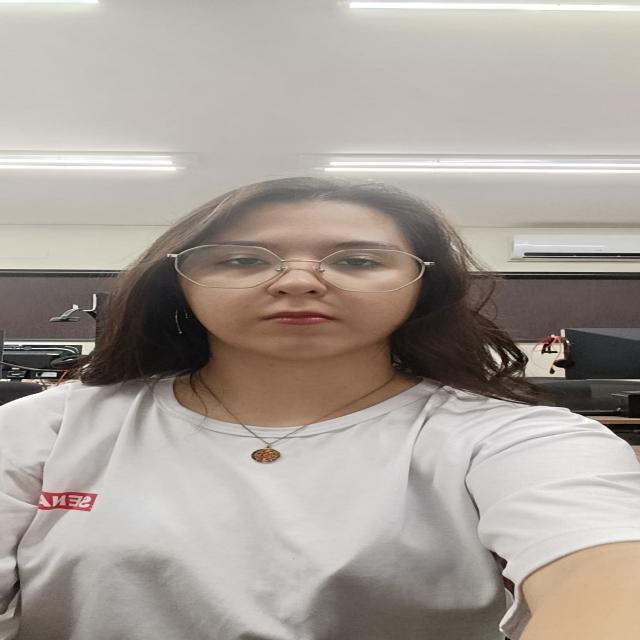sem_oculos: (168, 243, 434, 292)
